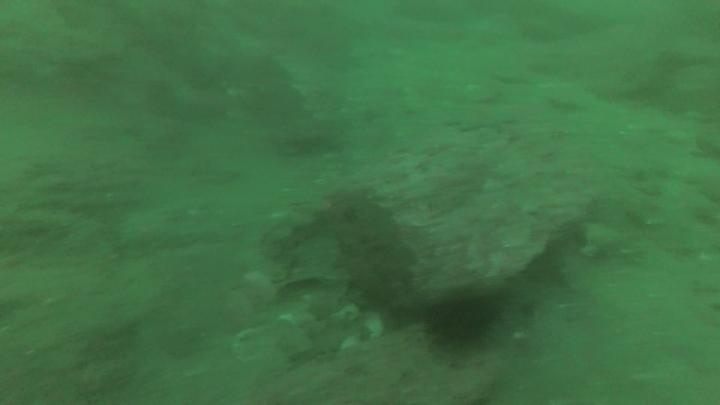echinus: (422, 291, 500, 354)
starfish: (448, 99, 517, 136)
